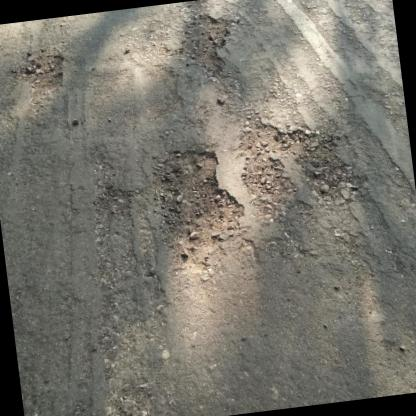pothole: (146, 139, 254, 276), (284, 120, 362, 206), (233, 116, 299, 216), (173, 10, 243, 83), (8, 50, 70, 95)
